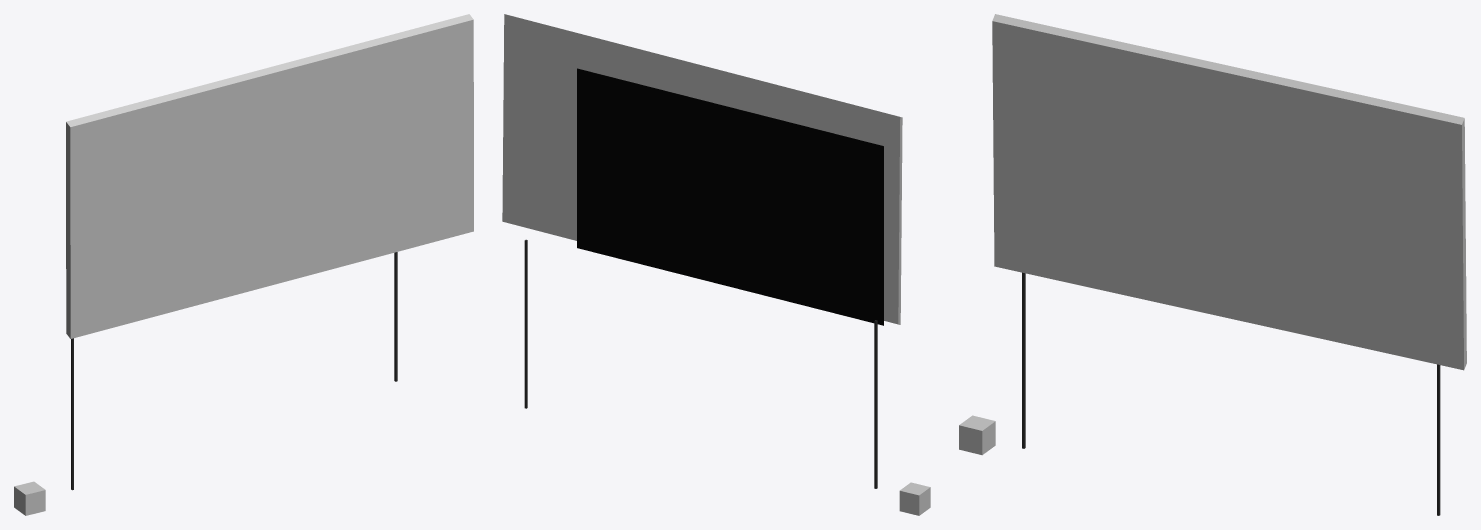
Rendered from s200Sign.obj.
3 renders of one model, left to right at view 1: azimuth 30°, elevation 25°; view 2: azimuth 150°, elevation 25°; view 3: azimuth 330°, elevation 25°, orthographic. The views are drawn at different scales.
Visible parts, largest first — view 1: Cube.002, Cube, Cube.000_Cube.004; view 2: Plane, Cube.002, Cube, Cube.001, Cube.000_Cube.004; view 3: Cube.002, Cube, Cube.001, Cube.000_Cube.004.
Part boxes in pixels (<box>): Cube.002: <box>66,14,473,338</box>; Cube: <box>14,481,45,515</box>; Cube.000_Cube.004: <box>394,252,397,381</box>; Plane: <box>577,68,883,325</box>; Cube.002: <box>502,14,902,324</box>; Cube: <box>899,482,930,515</box>; Cube.001: <box>874,320,877,488</box>; Cube.000_Cube.004: <box>524,239,527,408</box>; Cube.002: <box>992,14,1466,370</box>; Cube: <box>959,415,995,455</box>; Cube.001: <box>1022,272,1025,448</box>; Cube.000_Cube.004: <box>1437,364,1440,515</box>.
Size of the model in its own units: 43.97 by 37.66 by 5.31.
